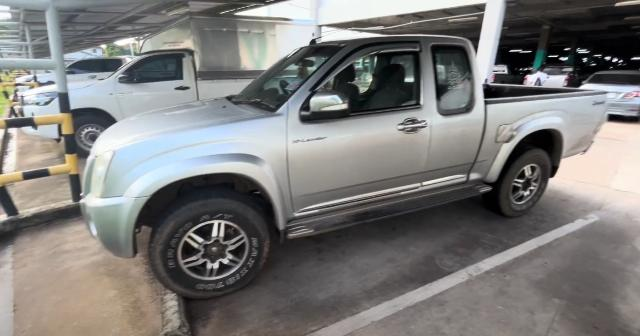pickup-truck: (77, 35, 612, 298)
